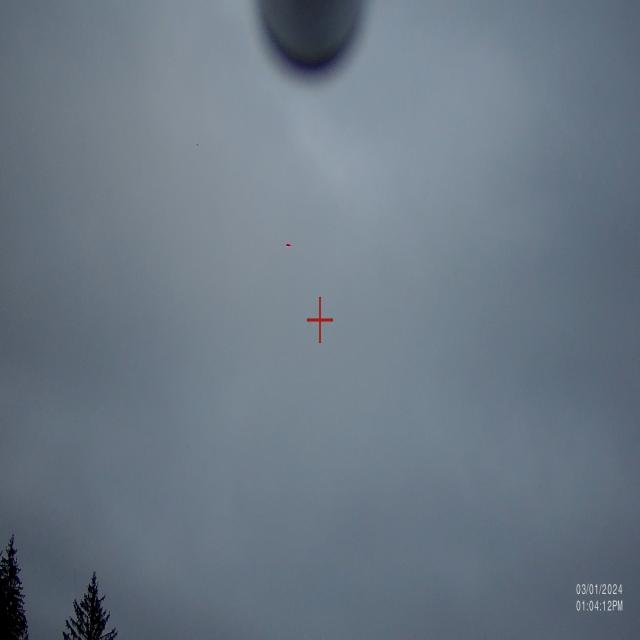entire: (282, 238, 292, 255)
